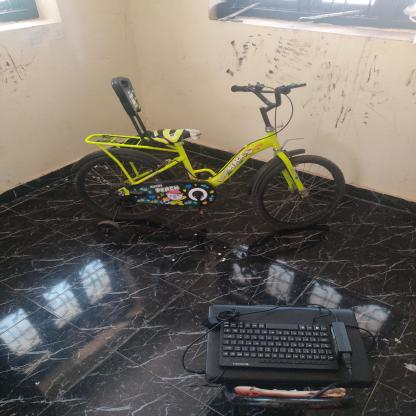bike: (52, 64, 367, 247)
